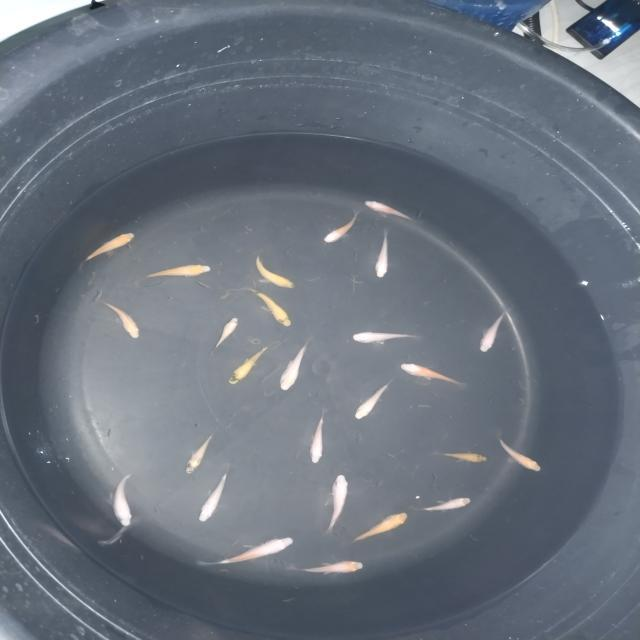nila: (194, 531, 296, 568), (74, 230, 137, 272), (342, 508, 408, 548), (192, 463, 233, 525), (494, 431, 547, 477), (240, 286, 296, 328), (318, 471, 352, 538), (278, 336, 316, 392), (96, 296, 142, 342), (398, 362, 470, 390), (224, 346, 274, 386), (351, 378, 395, 421), (475, 306, 514, 354), (356, 200, 424, 226), (203, 316, 245, 358), (252, 250, 296, 290), (182, 430, 218, 476), (304, 407, 332, 465), (406, 494, 476, 517), (284, 558, 368, 576), (319, 209, 361, 244), (349, 328, 424, 347), (141, 262, 214, 281), (111, 470, 134, 530), (370, 230, 393, 280), (429, 448, 491, 466)
